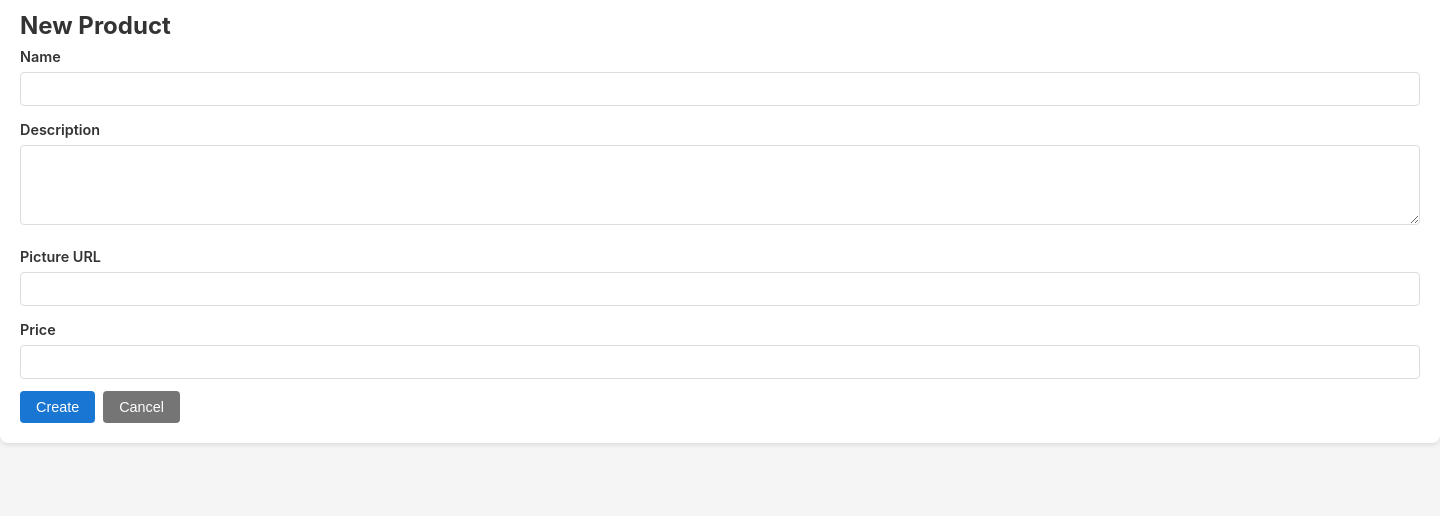
Test: ProductForm › displays error message on submit failure
Step 1. Type "Test" into the field labelled "Name" → x=720, y=89, box top-left (20, 72), bottom-right (1420, 106)
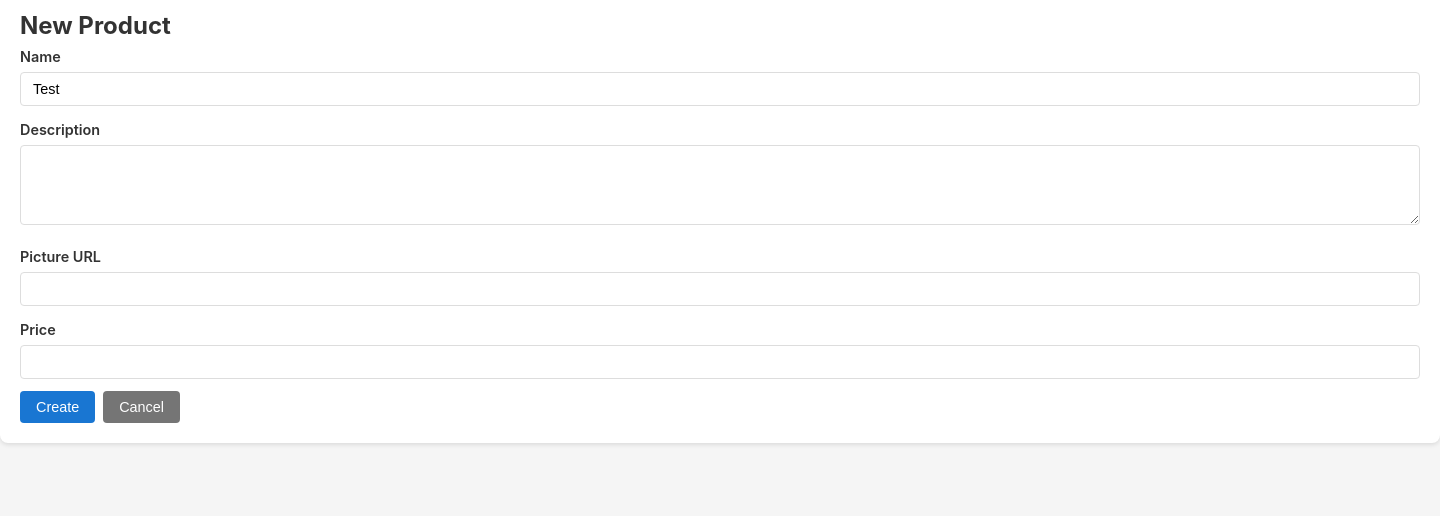
Step 2. Type "Test description for the product" into the text box labelled "Description" → x=720, y=186, box top-left (20, 146), bottom-right (1420, 226)
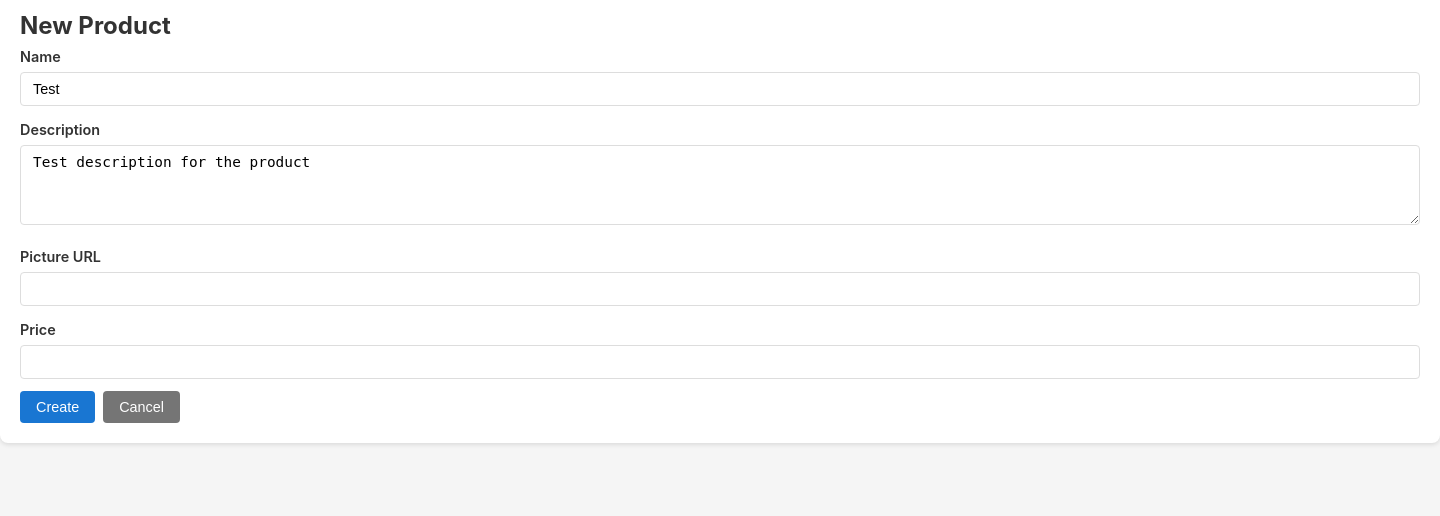
Step 3. Type "pic.jpg" into the field labelled "Picture URL" → x=720, y=289, box top-left (20, 272), bottom-right (1420, 306)
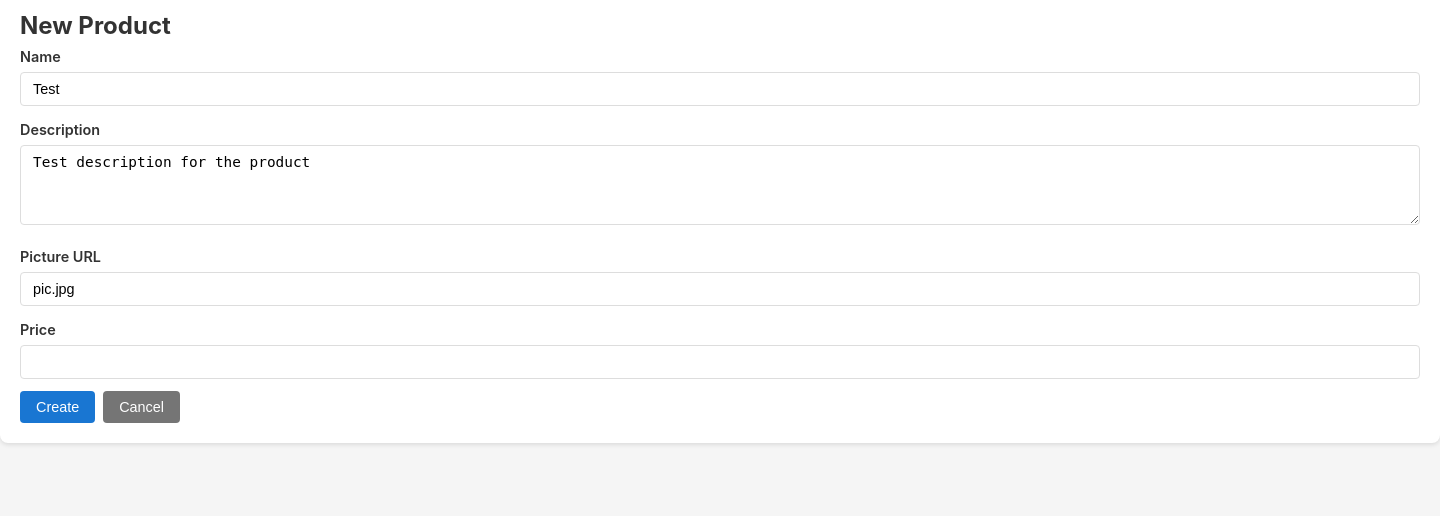
Step 4. Type "10" into the number field labelled "Price" → x=720, y=362, box top-left (20, 345), bottom-right (1420, 379)
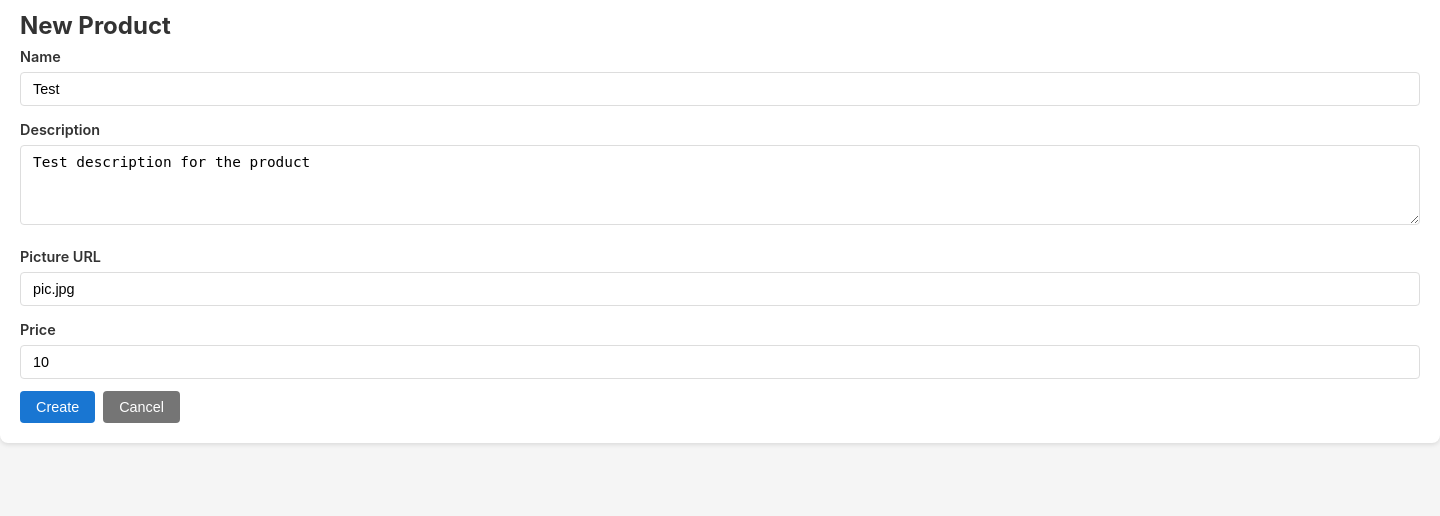
Step 5. Submit the form from the button "Create", box top-left (20, 391), bottom-right (95, 423)
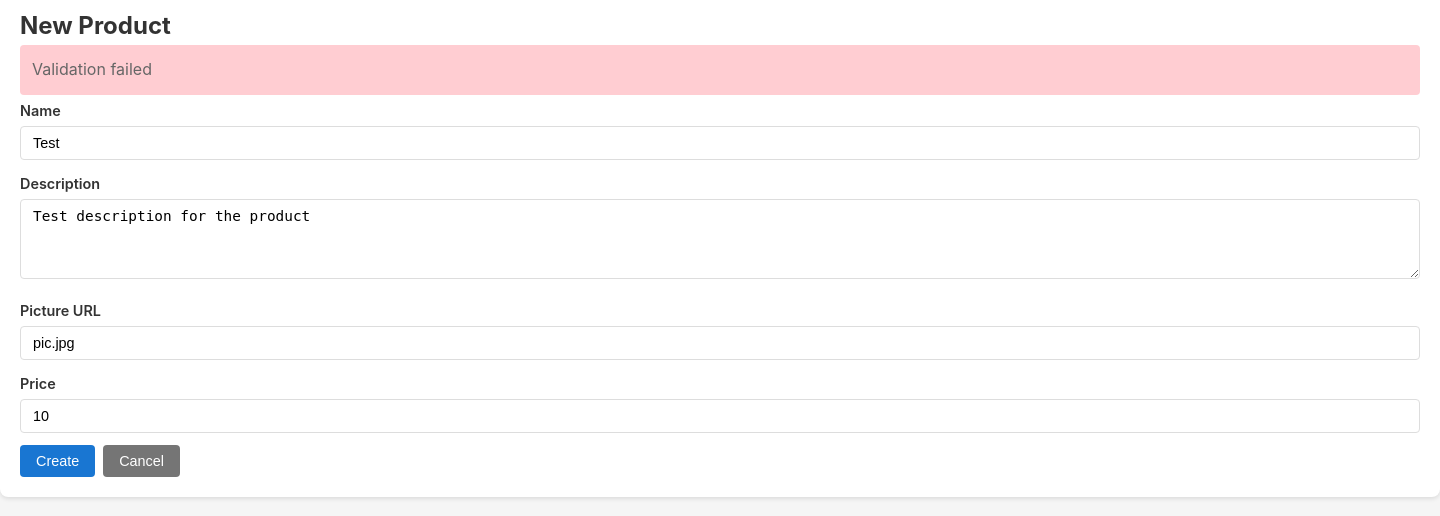
Check: the text "Validation failed" is shown, box top-left (20, 45), bottom-right (1420, 95)
